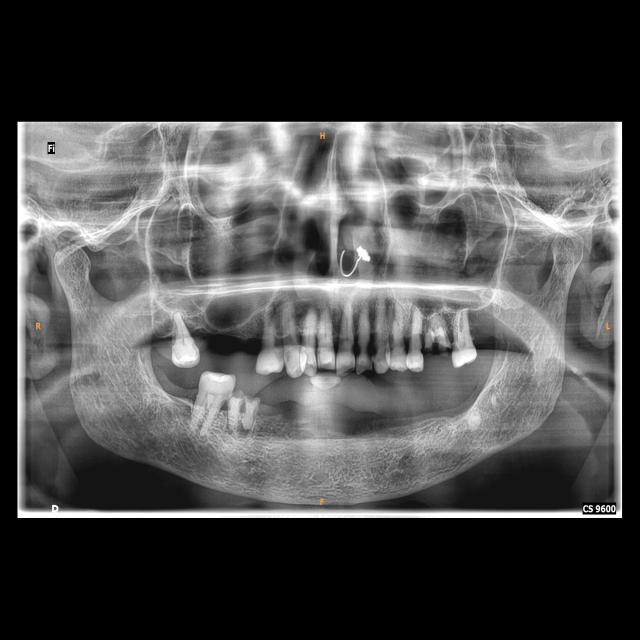dentin-curugu: (357, 322, 373, 371), (372, 327, 386, 366), (348, 330, 358, 368)
dolgu: (170, 338, 202, 365), (451, 346, 481, 370), (202, 372, 235, 385), (298, 341, 308, 373)
kirik: (228, 389, 264, 414), (424, 340, 454, 360)
